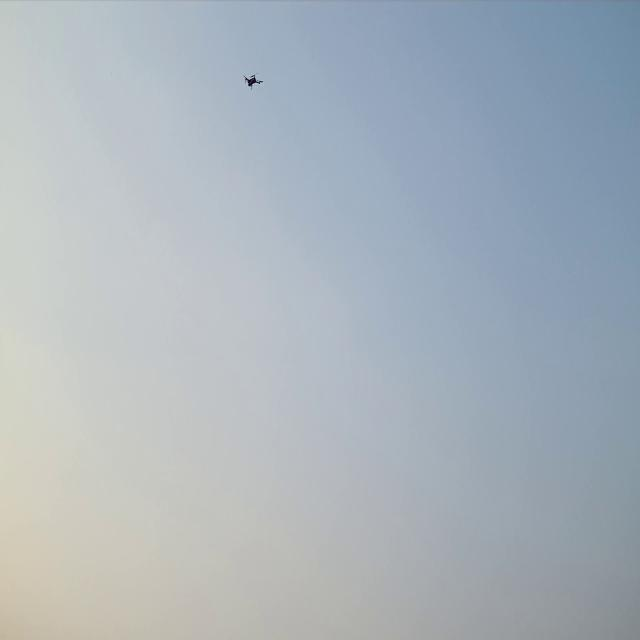UAV: (241, 71, 264, 92)
